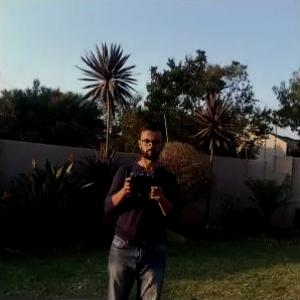follow: (96, 112, 187, 299)
